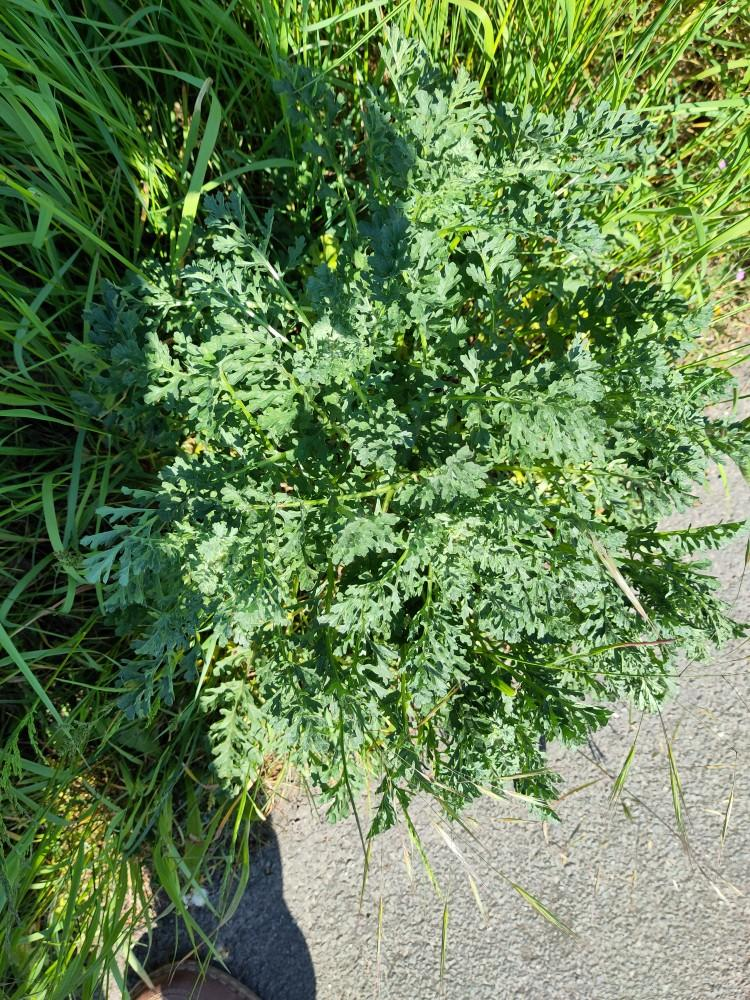Jacobaea vulgaris: (54, 17, 750, 853)
